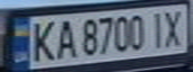0: (127, 11, 148, 52), (112, 12, 133, 52)
7: (96, 14, 115, 54)
8: (78, 15, 100, 56)
A: (51, 17, 78, 61)
I: (148, 9, 169, 50)
K: (27, 17, 57, 63)
X: (160, 7, 190, 48)
